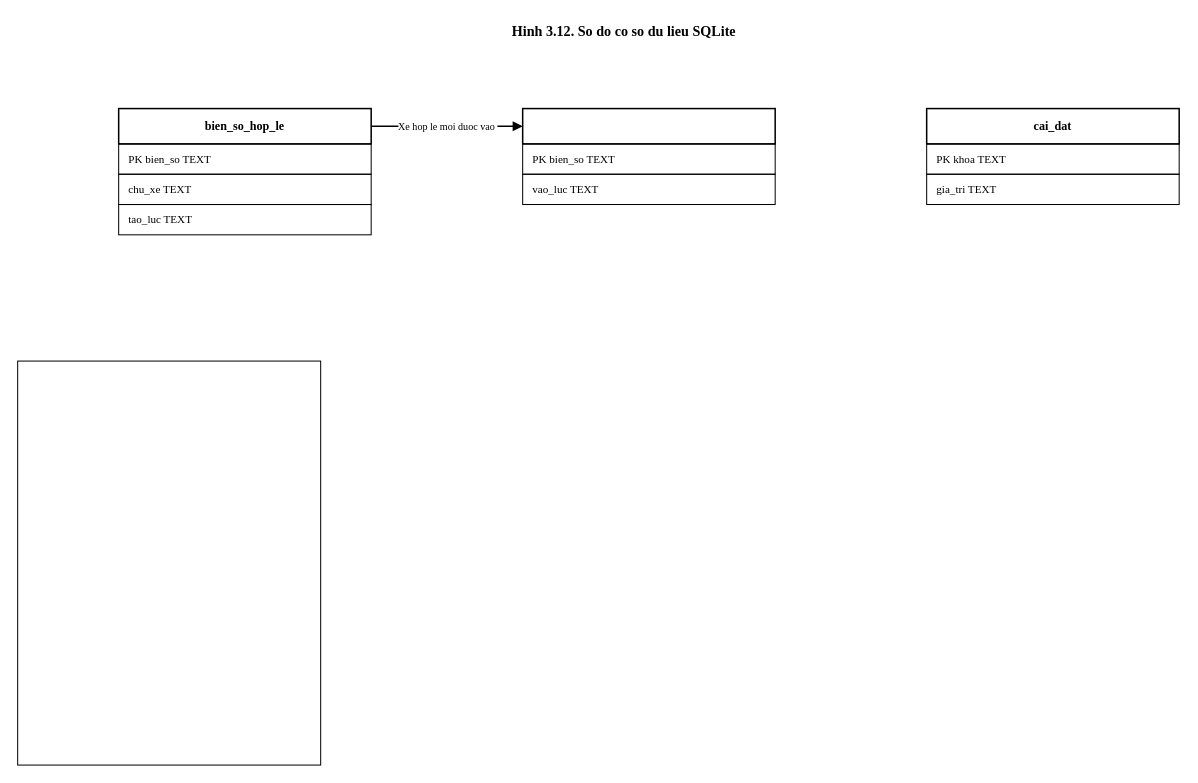
Image size: 1198x783. Some labels were removed from this diagram. The box of each missing label's shape, as (x1, y1, x2, y2) in pixels:
File: co_so_du_lieu_bai_xe.db Thu vien: sqlite3 (tich hop san Python): (17, 360, 321, 765)
xe_trong_bai: (521, 107, 775, 144)
